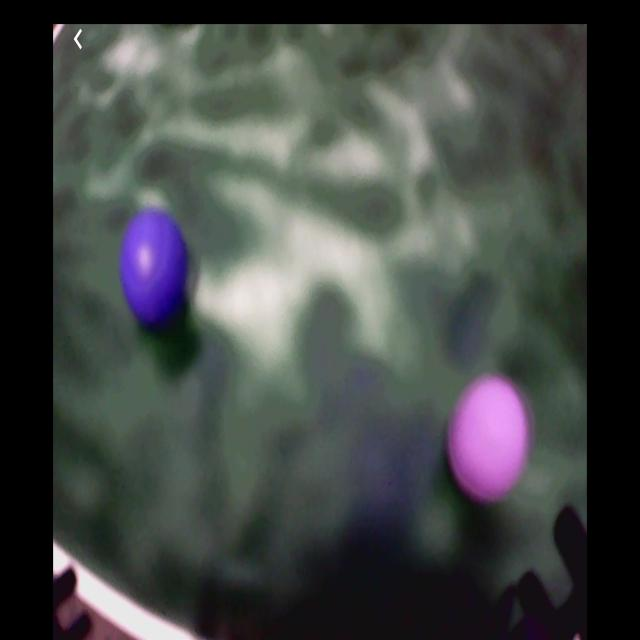ball: (449, 374, 532, 504), (120, 208, 189, 324)
